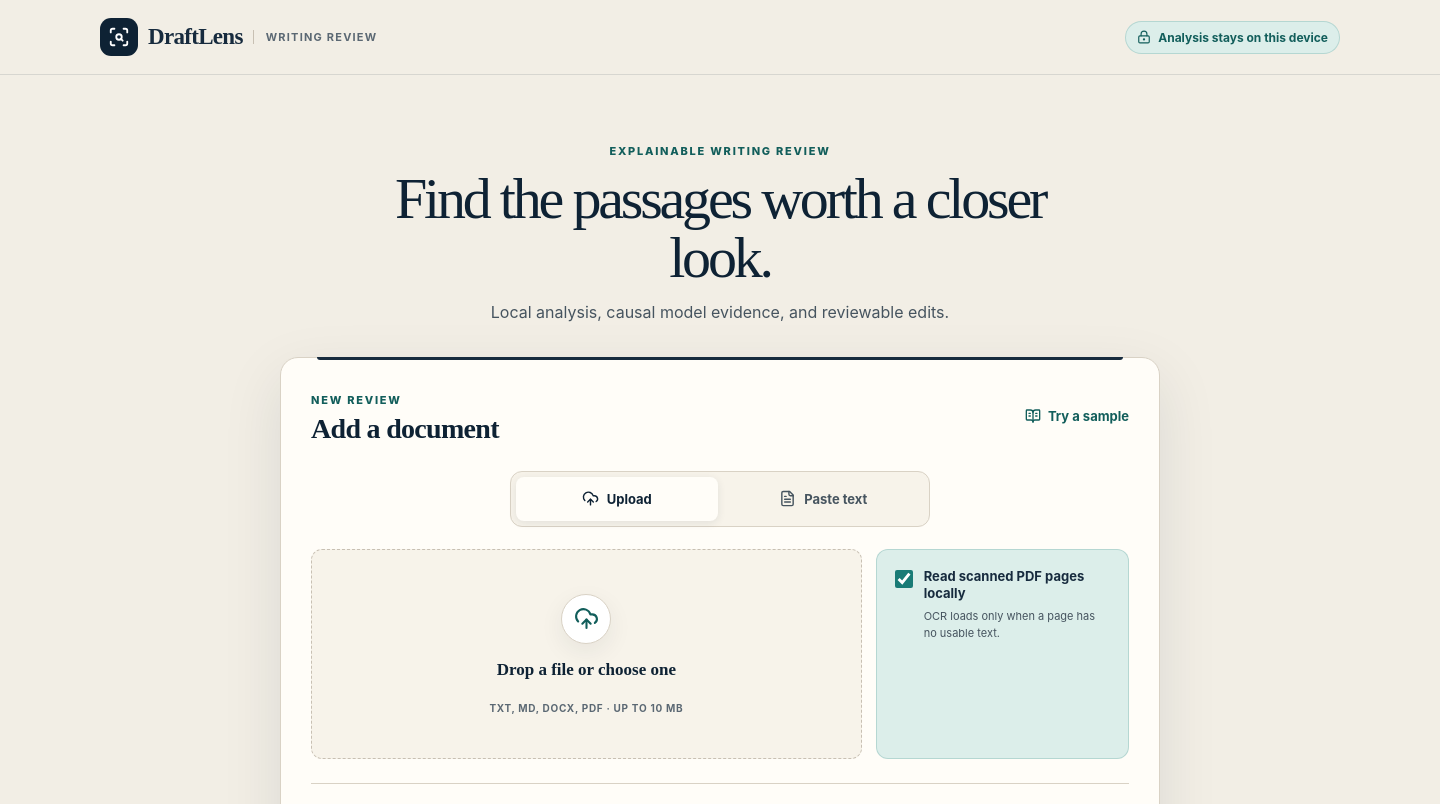
Test: document entry › switches cleanly between Upload and Paste without showing both inputs
expect the text "Drop a file or choose one" is shown: met, box x1=497 y1=660 x2=676 y2=680
expect the field labelled "Paste your writing" is not shown: met
Click the tab "Paste text".
click(823, 499)  # box x1=722 y1=477 x2=924 y2=521
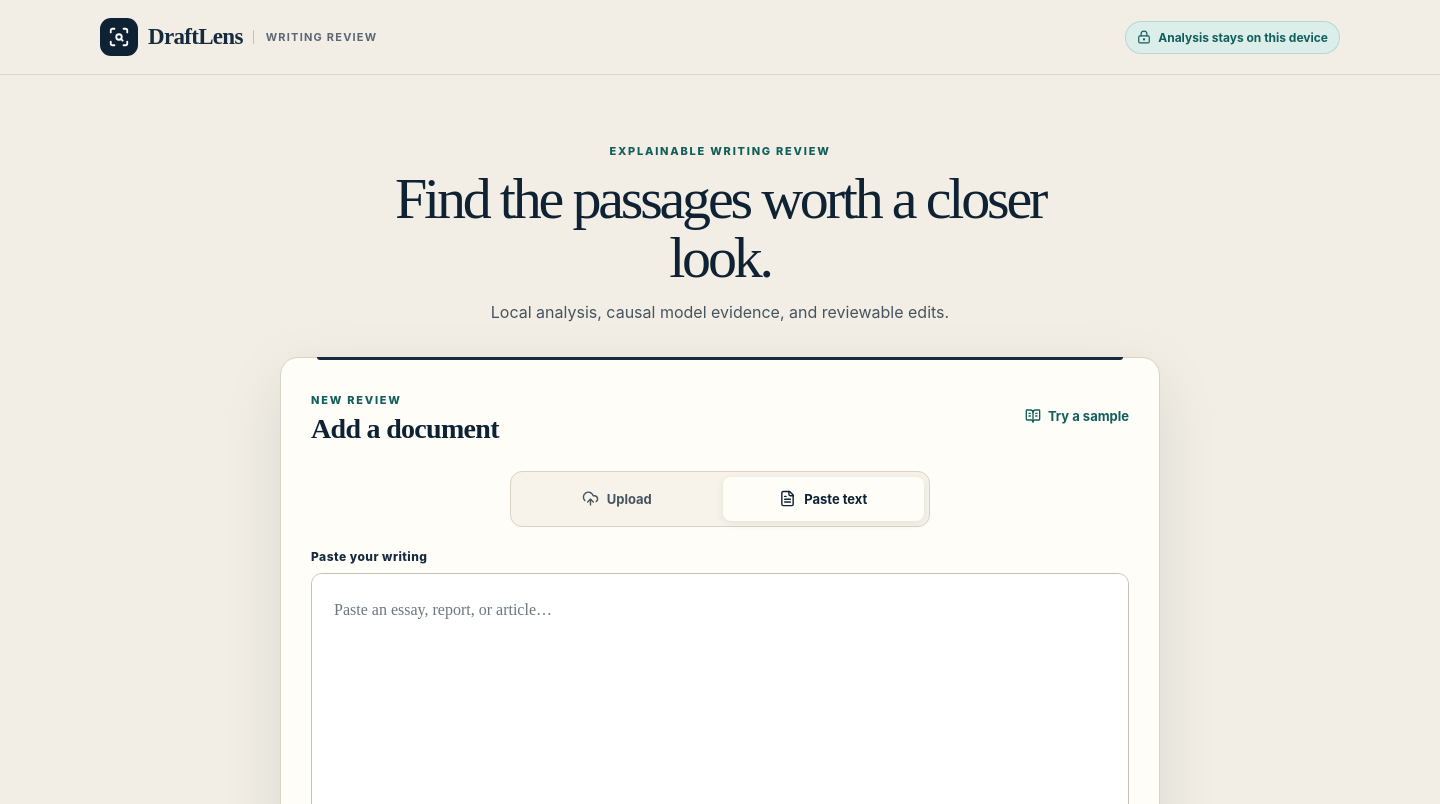
expect the text "Drop a file or choose one" is gone: met
Click the tab "Upload".
click(617, 499)  # box x1=516 y1=477 x2=718 y2=521
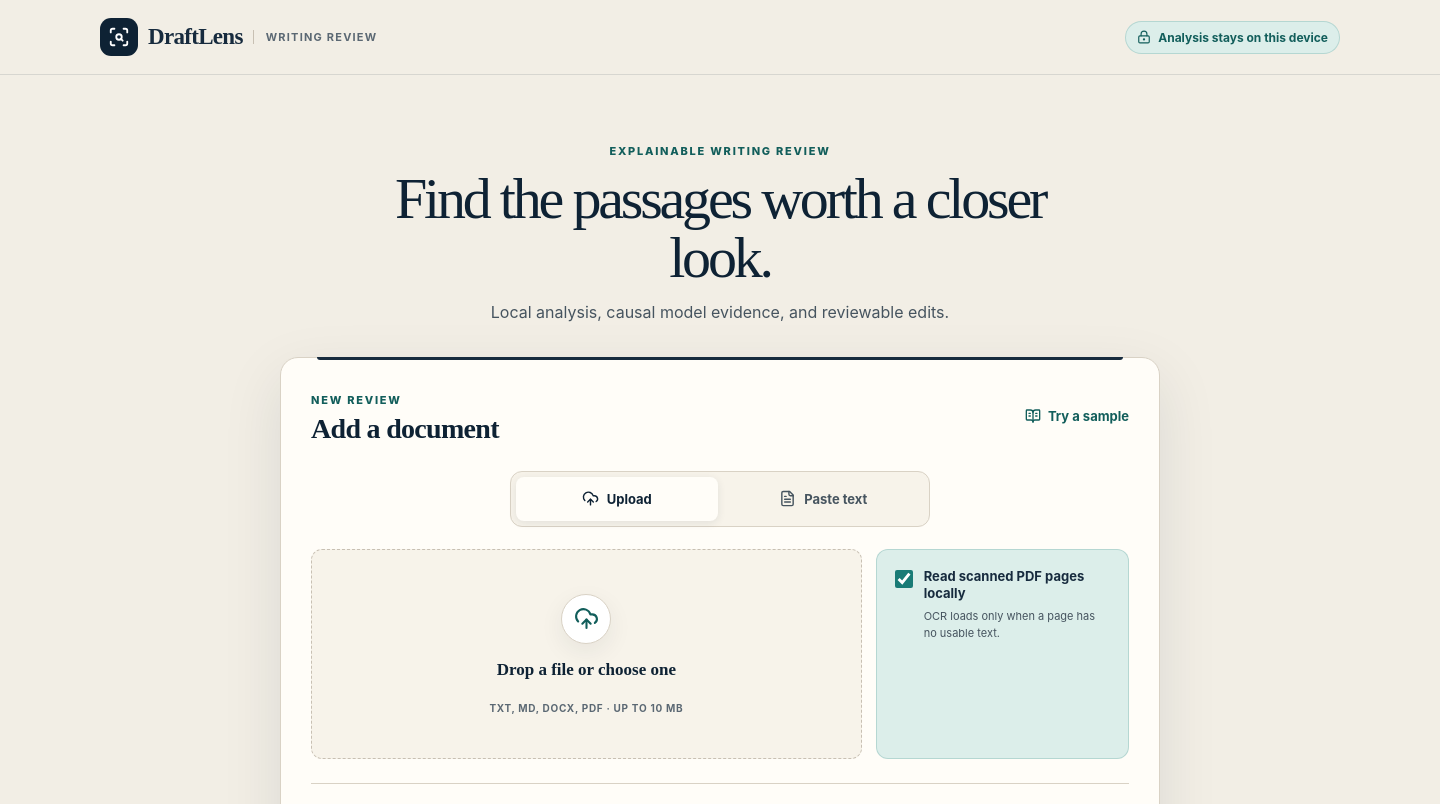
expect the text "Drop a file or choose one" is shown: met, box x1=497 y1=660 x2=676 y2=680
expect the label labelled "Paste your writing" is gone: met
